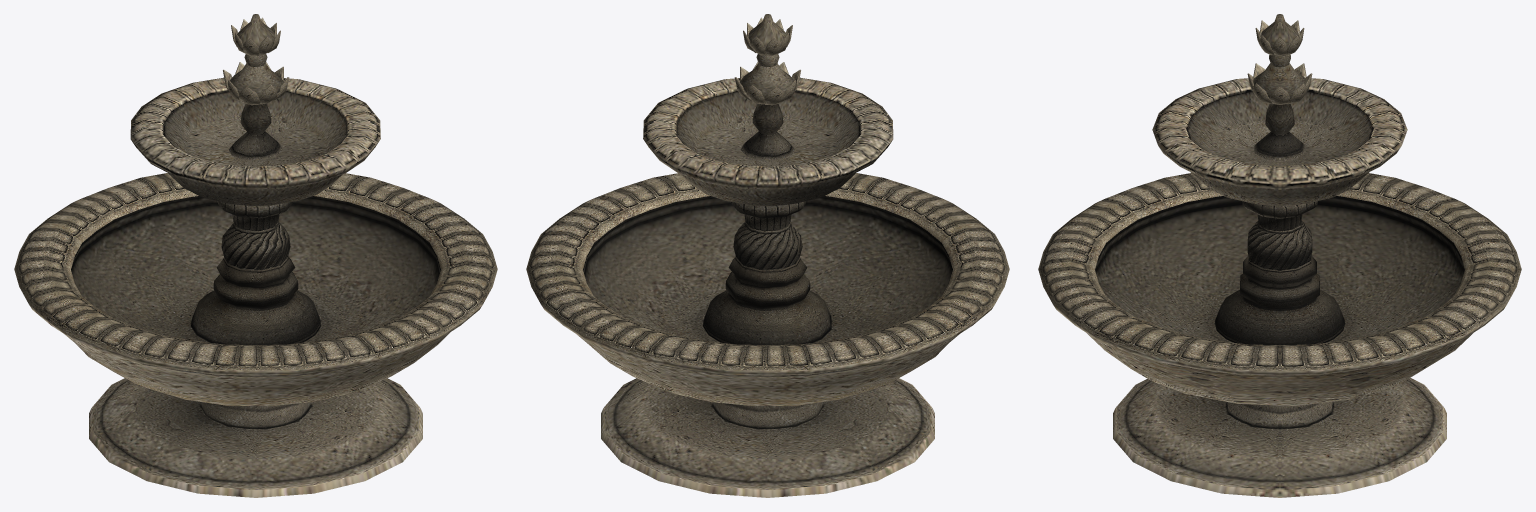
The model's file is fountain.fbx.
The picture shows the model from 3 angles, left to right: view 1: azimuth 30°, elevation 25°; view 2: azimuth 150°, elevation 25°; view 3: azimuth 270°, elevation 25°; orthographic projection.
Visible parts, largest first — view 1: fountain; view 2: fountain; view 3: fountain.
Boxes of the visible parts, x1,y1,x2,y2 form: fountain: [14, 14, 497, 497]; fountain: [526, 14, 1009, 497]; fountain: [1038, 14, 1521, 497].
Bounding box in the file's own units: 406 × 383 × 408.
